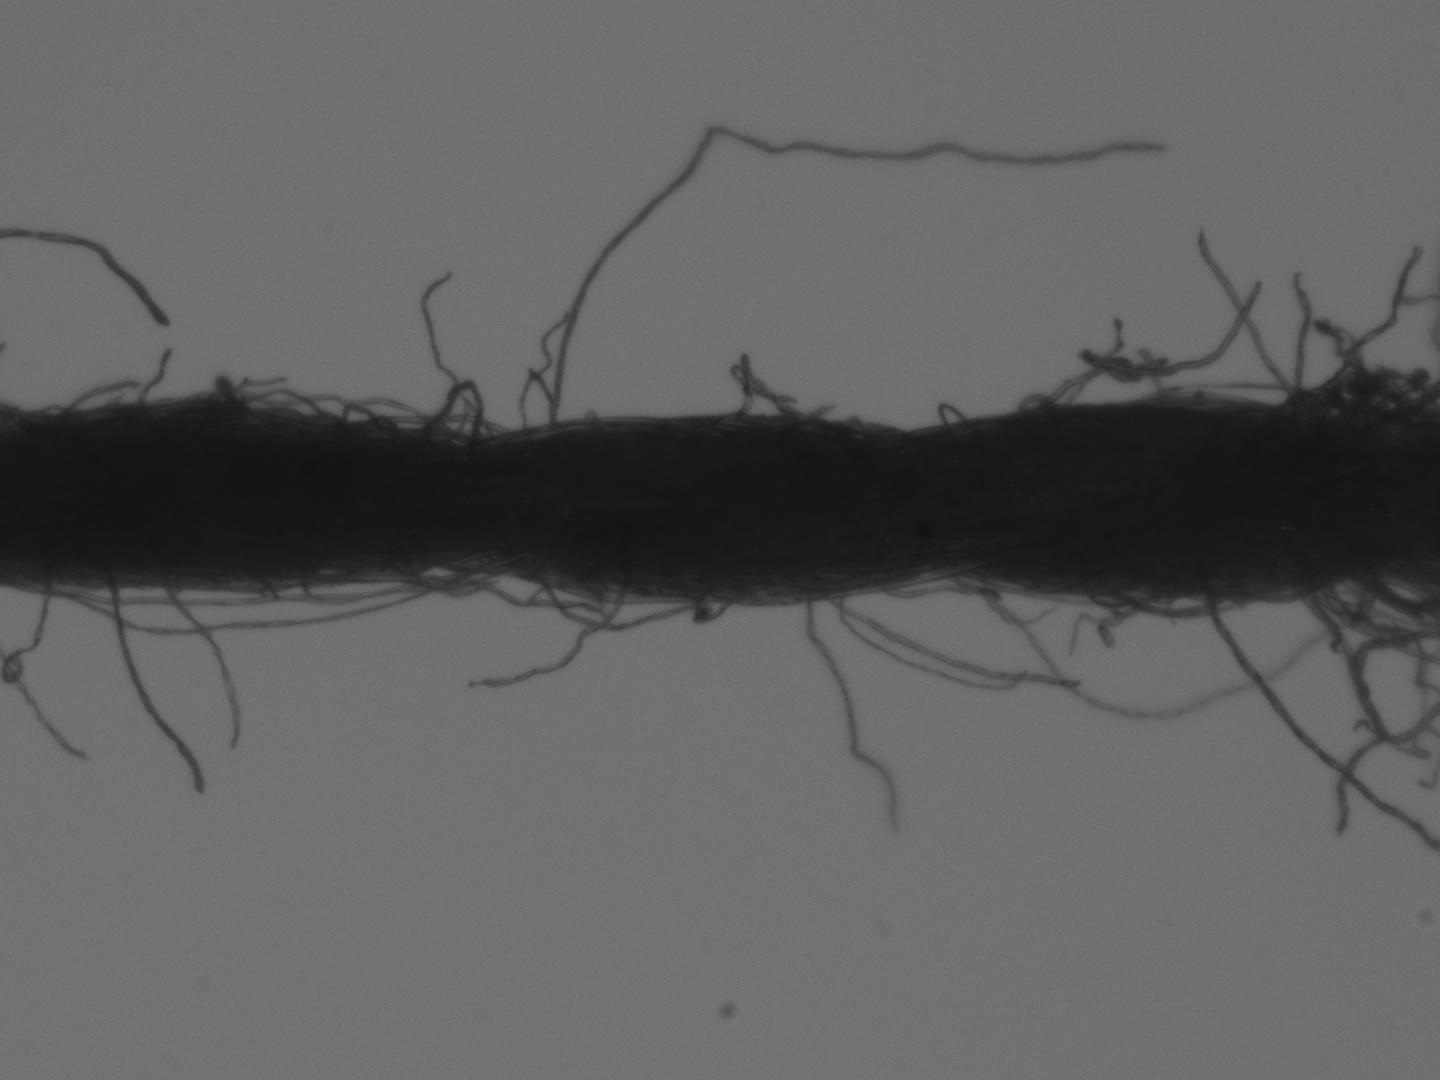loop_fiber: (1285, 563, 1433, 749), (1270, 315, 1430, 434), (1019, 343, 1177, 413), (530, 572, 685, 638), (341, 555, 522, 602), (1078, 568, 1233, 623), (254, 385, 404, 436), (726, 353, 802, 424), (415, 372, 484, 448), (163, 372, 246, 422), (677, 572, 736, 627), (933, 393, 980, 439)
protruding_fiber: (541, 113, 1170, 430), (86, 554, 209, 795)
